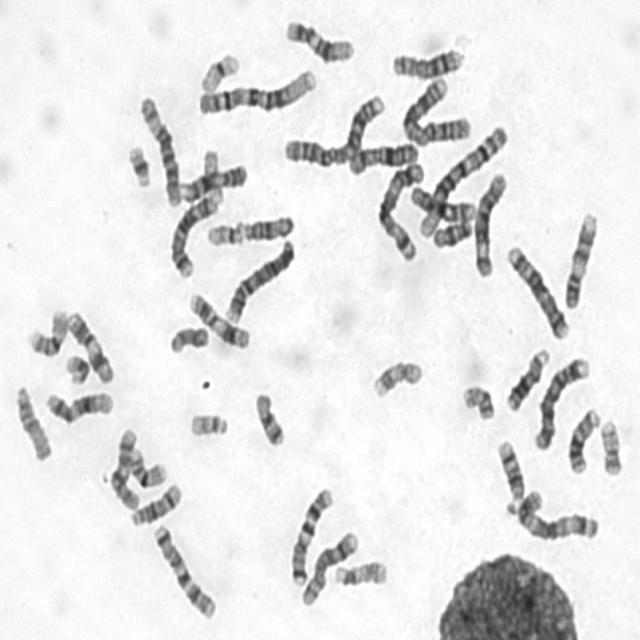A1: (415, 120, 510, 240), (193, 62, 319, 118)
A2: (279, 88, 387, 169), (398, 72, 474, 147)
A3: (373, 155, 426, 264), (509, 483, 601, 544)
B4: (220, 232, 297, 325), (529, 350, 592, 451)
B5: (502, 238, 571, 342), (165, 185, 222, 278)
C10: (104, 422, 141, 512), (405, 179, 477, 225)
C11: (62, 305, 115, 386), (184, 287, 252, 350)
C12: (280, 12, 356, 64), (40, 385, 114, 425)
C6: (134, 89, 182, 210), (470, 165, 510, 279)
C7: (149, 518, 218, 621), (285, 481, 335, 587)
C8: (296, 525, 361, 608), (387, 42, 465, 80)
C9: (560, 206, 600, 310), (175, 158, 249, 204)
D13: (502, 342, 552, 413), (562, 400, 602, 476)
D14: (125, 477, 183, 528), (493, 434, 526, 504)
D15: (11, 378, 54, 463), (235, 208, 296, 242)
E16: (22, 301, 70, 358), (125, 442, 169, 488)
E17: (367, 354, 424, 400), (329, 554, 390, 588)
E18: (250, 386, 286, 448), (428, 215, 474, 250)
F19: (196, 47, 242, 94), (198, 143, 225, 206)
F20: (595, 413, 625, 478), (456, 378, 496, 422)
G21: (123, 138, 152, 190), (60, 348, 91, 386)
G22: (184, 406, 230, 439), (202, 217, 246, 248)
X: (343, 136, 421, 176)
